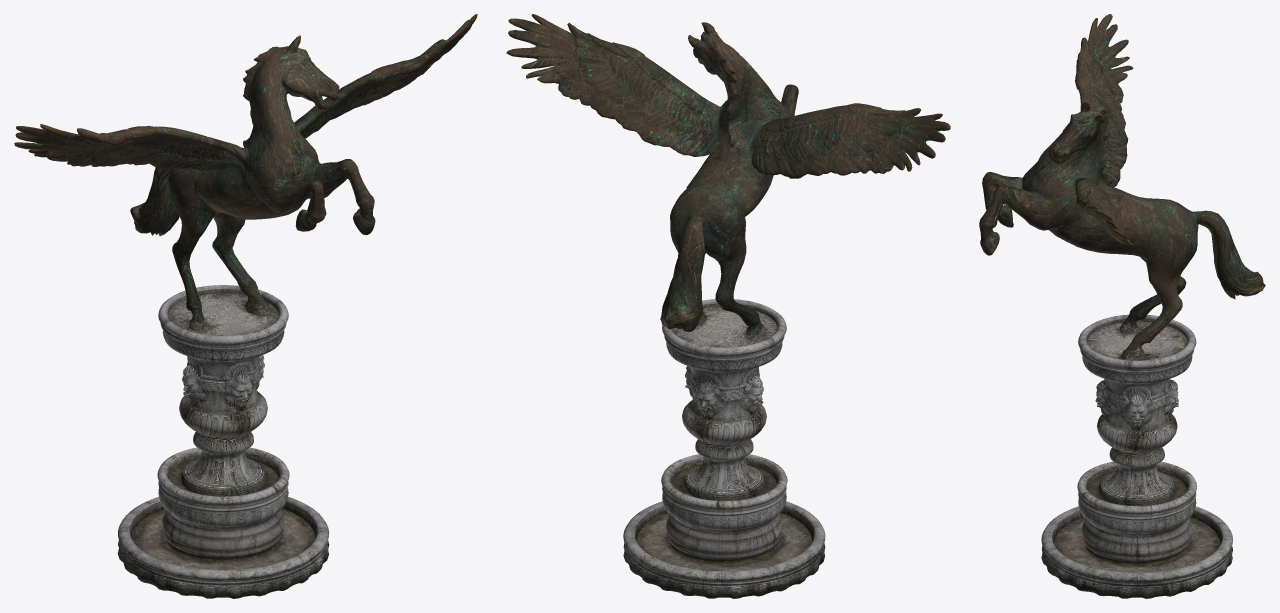
Rendered from sm0139_statueb.fbx.
The picture shows the model from 3 angles, left to right: view 1: azimuth 30°, elevation 25°; view 2: azimuth 150°, elevation 25°; view 3: azimuth 270°, elevation 25°; orthographic projection. The views are drawn at different scales.
Visible parts, largest first — view 1: LOD_1_Group_0_Sub_1__sm0139_statueB_B, LOD_1_Group_0_Sub_2__sm0139_statueB_A; view 2: LOD_1_Group_0_Sub_2__sm0139_statueB_A, LOD_1_Group_0_Sub_1__sm0139_statueB_B; view 3: LOD_1_Group_0_Sub_1__sm0139_statueB_B, LOD_1_Group_0_Sub_2__sm0139_statueB_A.
Boxes of the visible parts, <box> form: LOD_1_Group_0_Sub_1__sm0139_statueB_B: <box>117,285,329,598</box>; LOD_1_Group_0_Sub_2__sm0139_statueB_A: <box>14,14,477,331</box>; LOD_1_Group_0_Sub_2__sm0139_statueB_A: <box>506,14,950,336</box>; LOD_1_Group_0_Sub_1__sm0139_statueB_B: <box>623,299,825,598</box>; LOD_1_Group_0_Sub_1__sm0139_statueB_B: <box>1041,314,1232,598</box>; LOD_1_Group_0_Sub_2__sm0139_statueB_A: <box>979,14,1265,360</box>.
Bounding box in the file's own units: 761 × 834 × 451.
